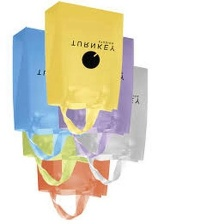plastic_bag: (41, 0, 127, 135), (54, 32, 136, 158), (10, 27, 81, 162), (74, 64, 151, 186), (30, 156, 112, 222), (18, 130, 94, 188)
